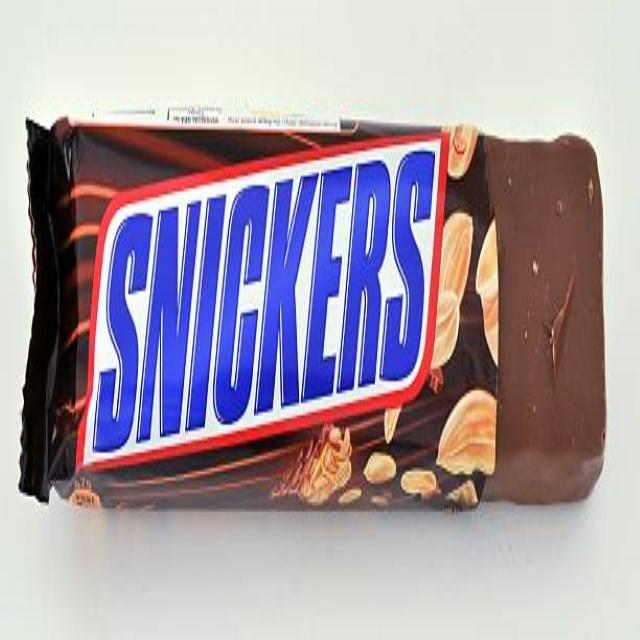snickers_chocolate: (48, 104, 610, 518)
